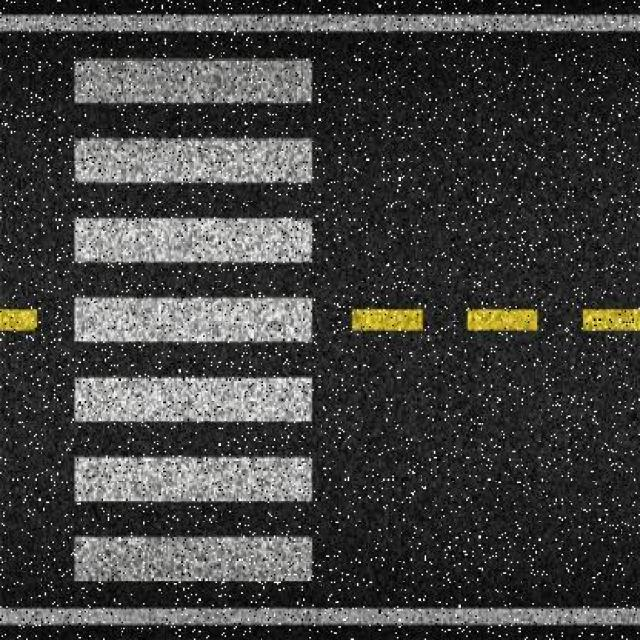intact_crosswalk: (68, 56, 315, 587)
